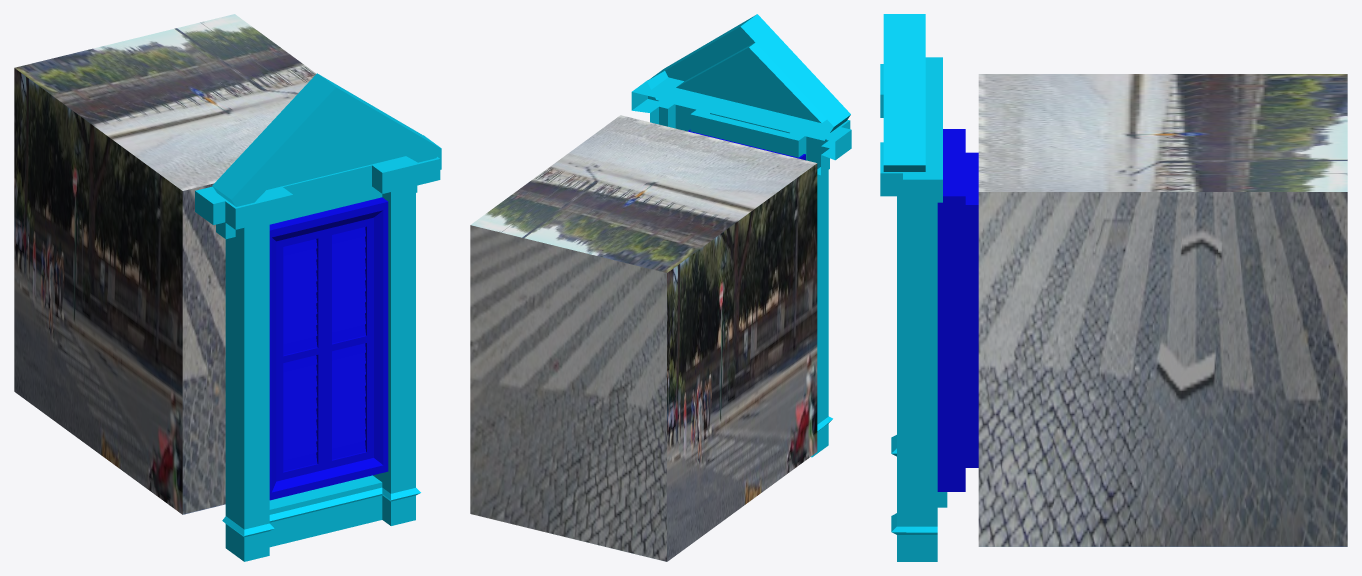
File: BWindow02.FBX
3 views of the same model, side by side, from view 1: azimuth 30°, elevation 25°; view 2: azimuth 150°, elevation 25°; view 3: azimuth 270°, elevation 25° (orthographic). The views are drawn at different scales.
Visible parts, largest first — view 1: Box008, Dummy002; view 2: Box008; view 3: Box008.
Boxes of the visible parts, x1,y1,x2,y2 form: Box008: (14, 14, 441, 561); Dummy002: (276, 217, 373, 481); Box008: (470, 14, 851, 561); Box008: (880, 14, 1347, 561).
Bounding box in the file's own units: 352 × 675 × 569.
